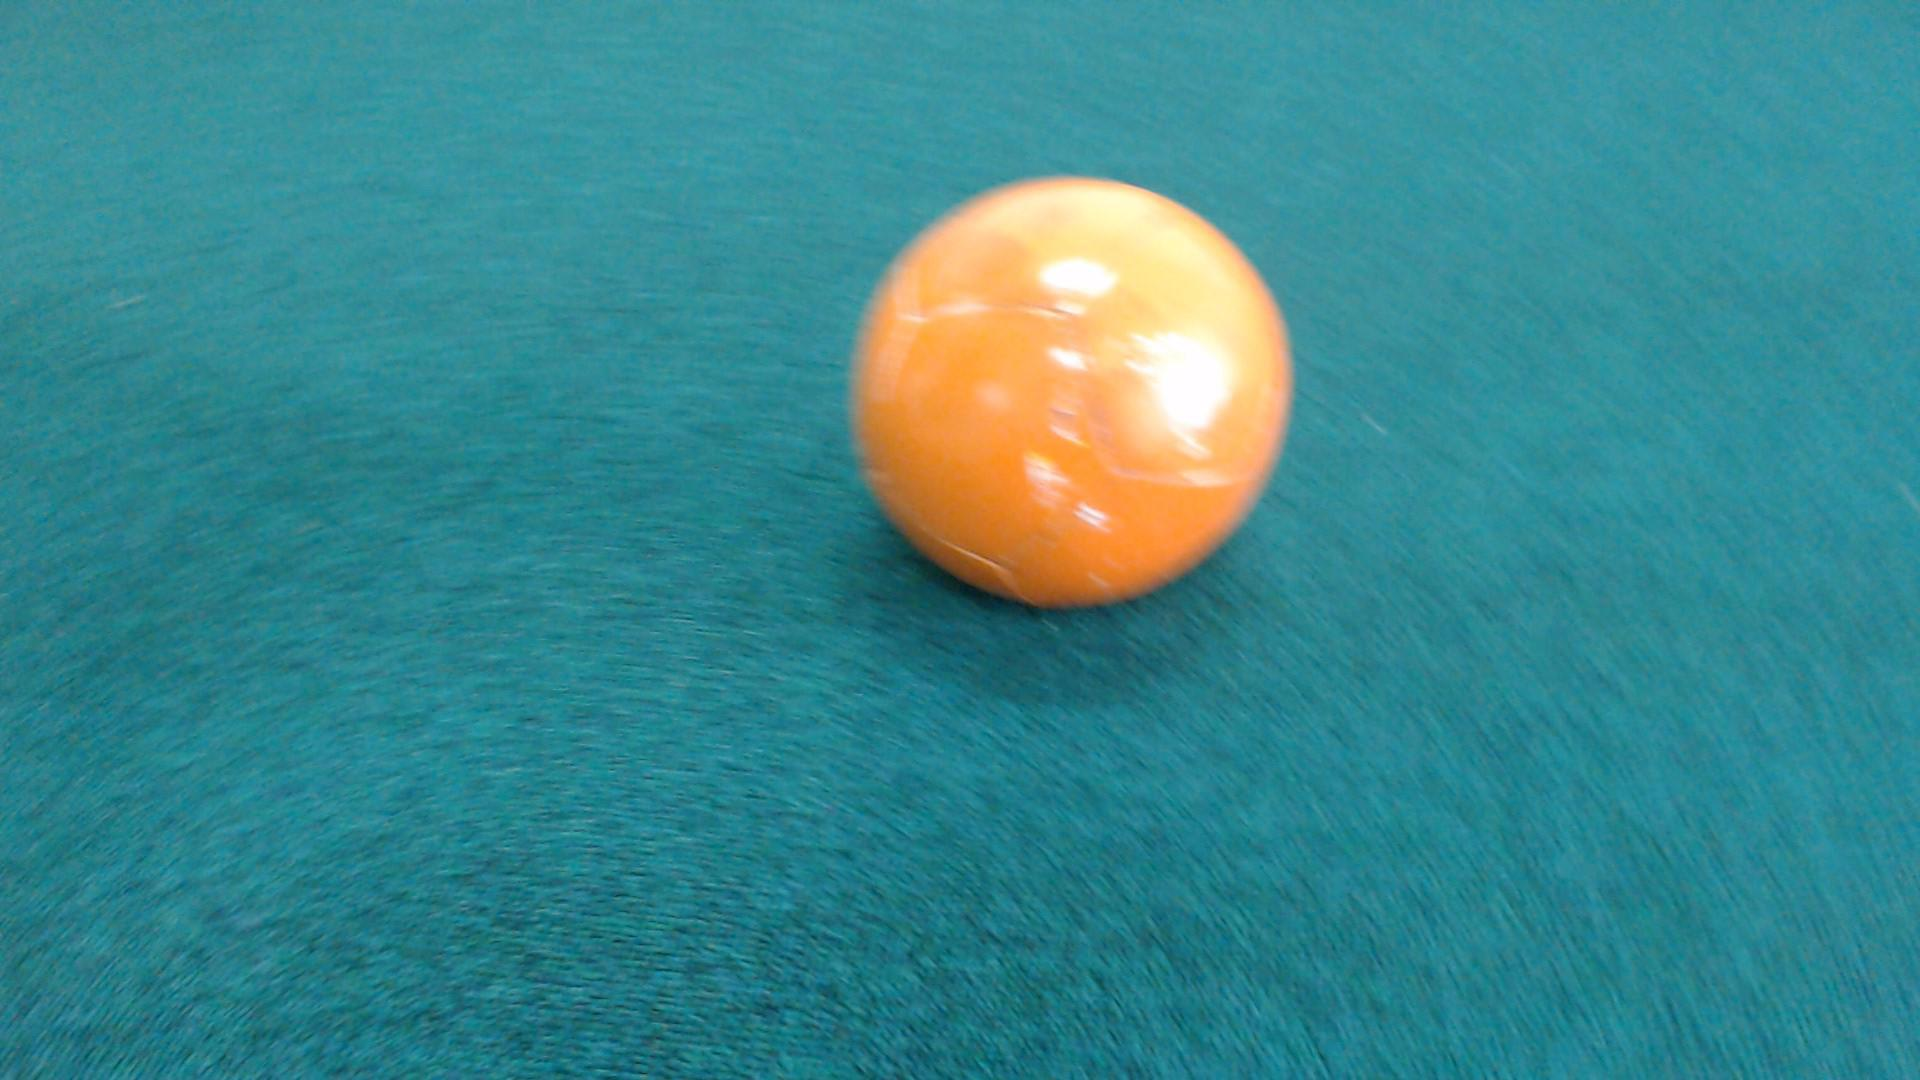bola: (800, 164, 1317, 624)
